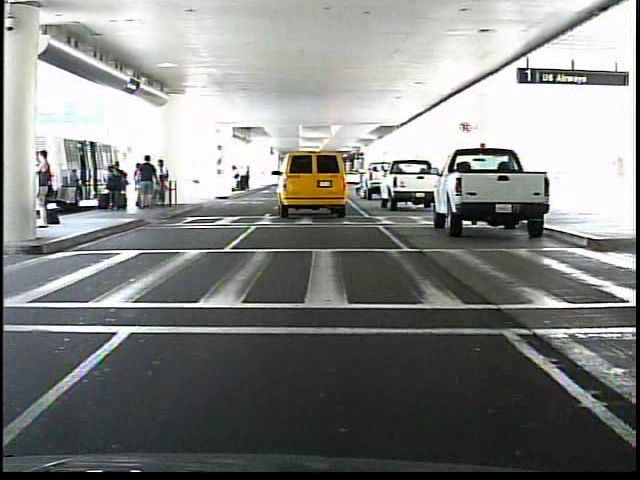person: (40, 147, 56, 230)
